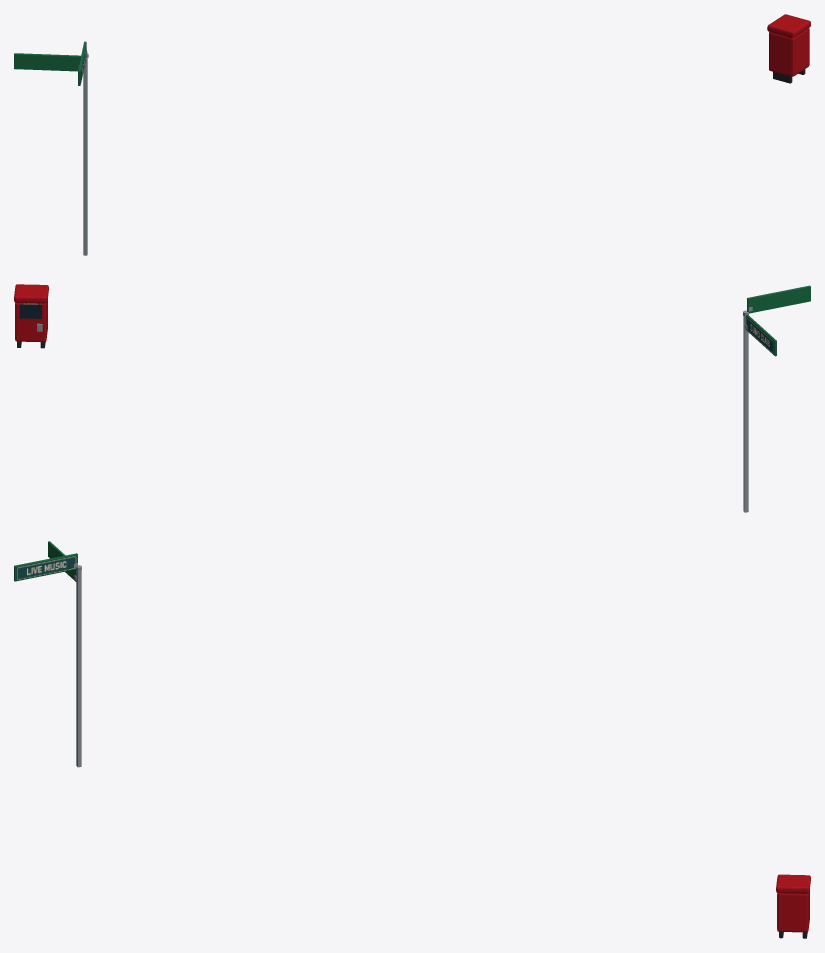
File: club.glb
3 renders of one model, top to bottom at view 1: azimuth 30°, elevation 25°; view 2: azimuth 150°, elevation 25°; view 3: azimuth 330°, elevation 25°, orthographic.
Visible parts, largest first — view 1: geometry_084017cecbda4, geometry_1, geometry_0; view 2: geometry_084017cecbda4, geometry_1, geometry_0; view 3: geometry_084017cecbda4, geometry_0, geometry_3.
Boxes of the visible parts, left/top/right/bottom form: geometry_084017cecbda4: left=767, top=14, right=810, bottom=76; geometry_1: left=14, top=41, right=86, bottom=85; geometry_0: left=78, top=51, right=88, bottom=255; geometry_084017cecbda4: left=14, top=284, right=48, bottom=342; geometry_1: left=745, top=285, right=810, bottom=356; geometry_0: left=743, top=307, right=752, bottom=512; geometry_084017cecbda4: left=776, top=874, right=810, bottom=932; geometry_0: left=73, top=563, right=81, bottom=767; geometry_3: left=16, top=555, right=76, bottom=579.
Bounding box in the file's own units: 12.83 × 3.36 × 1.44.
9 materials, 3 textured.
